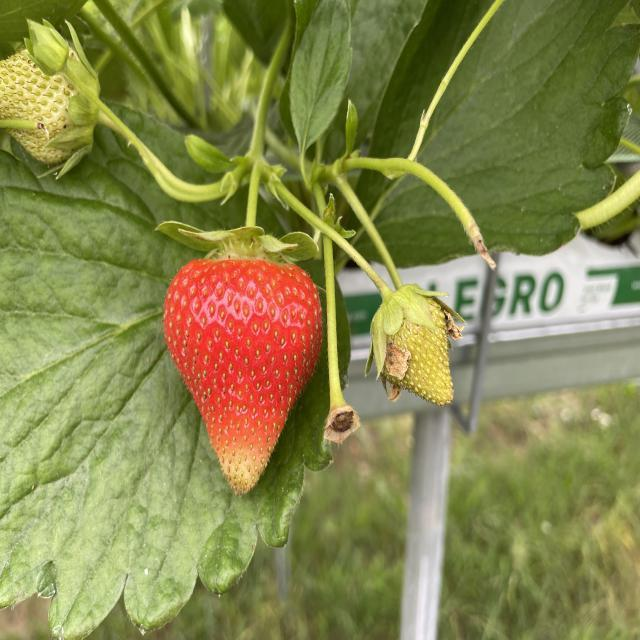stem: (160, 30, 316, 261), (294, 204, 435, 376)
strawberryNR: (384, 300, 454, 406)
strawberryR: (164, 258, 322, 494)
